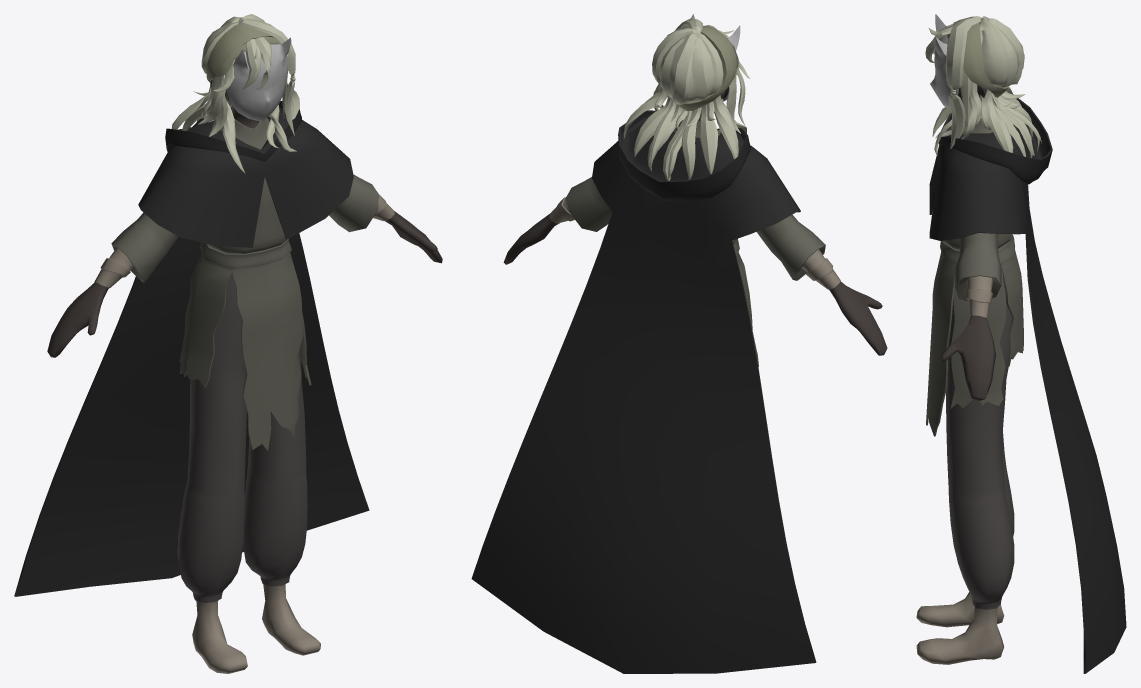
The model's file is player_Mask1.fbx.
3 renders of one model, left to right at view 1: azimuth 30°, elevation 25°; view 2: azimuth 150°, elevation 25°; view 3: azimuth 270°, elevation 25°, orthographic. The views are drawn at different scales.
Visible parts, largest first — view 1: player:Mask1; view 2: player:Mask1; view 3: player:Mask1.
Boxes of the visible parts, x1,y1,x2,y2 form: player:Mask1: [14, 14, 442, 673]; player:Mask1: [471, 14, 887, 673]; player:Mask1: [916, 14, 1126, 673].
Bounding box in the file's own units: 139 × 214 × 65.12.
